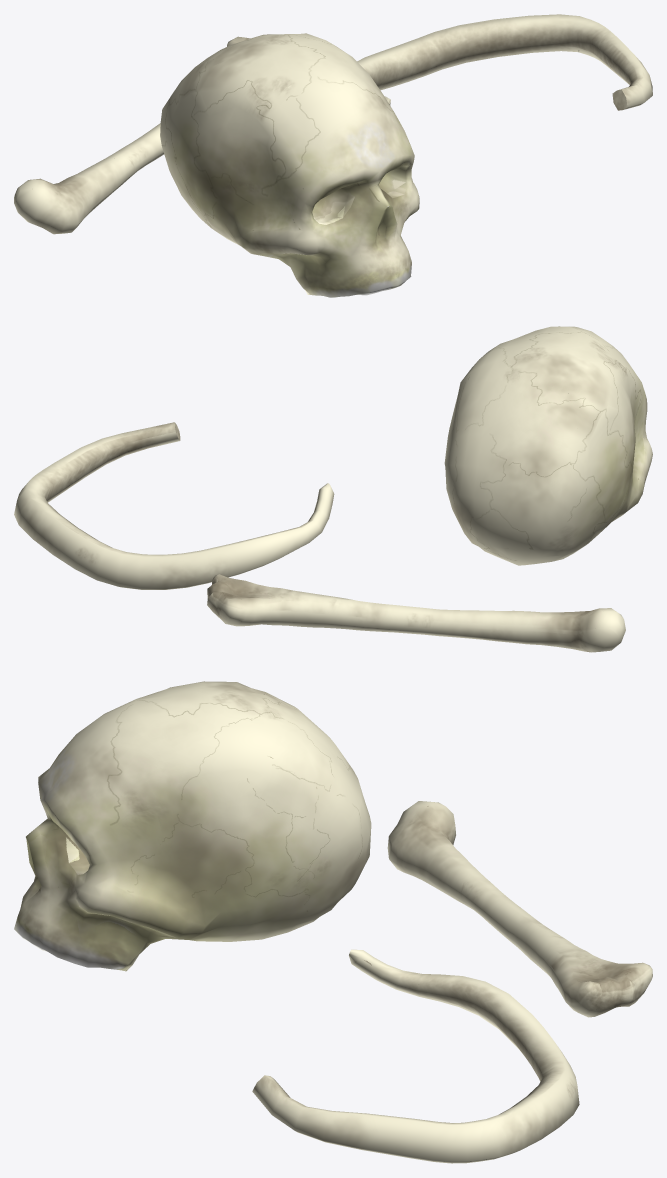
The model's file is Bones.fbx.
3 renders of one model, top to bottom at view 1: azimuth 30°, elevation 25°; view 2: azimuth 150°, elevation 25°; view 3: azimuth 270°, elevation 25°, orthographic. The views are drawn at different scales.
Visible parts, largest first — view 1: skull_retopo, rib, arm_retopo; view 2: skull_retopo, rib, arm_retopo; view 3: skull_retopo, rib, arm_retopo.
Part boxes in pixels (box(x1,y1,x2,y2)): skull_retopo: box(160, 33, 419, 297); rib: box(357, 14, 652, 110); arm_retopo: box(14, 36, 250, 234); skull_retopo: box(444, 326, 652, 565); rib: box(14, 422, 334, 589); arm_retopo: box(207, 574, 625, 652); skull_retopo: box(14, 681, 371, 971); rib: box(252, 949, 579, 1163); arm_retopo: box(387, 801, 652, 1017).
Size of the model in its own units: 2.15 by 0.7338 by 1.68.
Materials: 3 (3 with a texture image).
